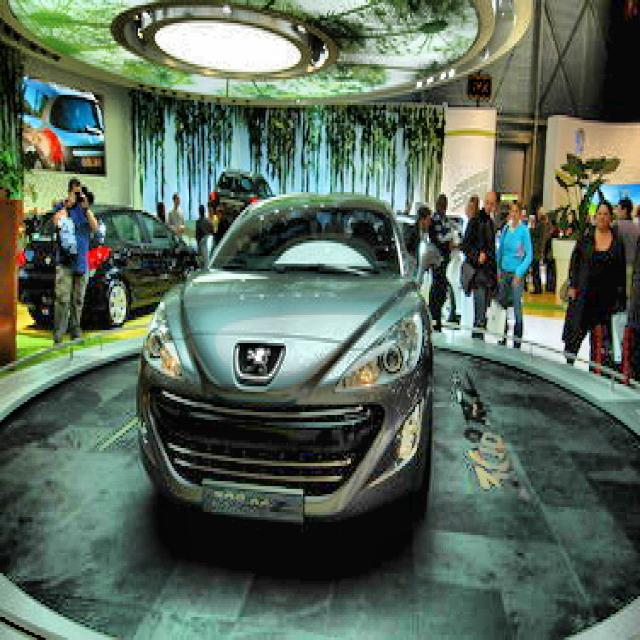carro: (120, 189, 449, 576)
